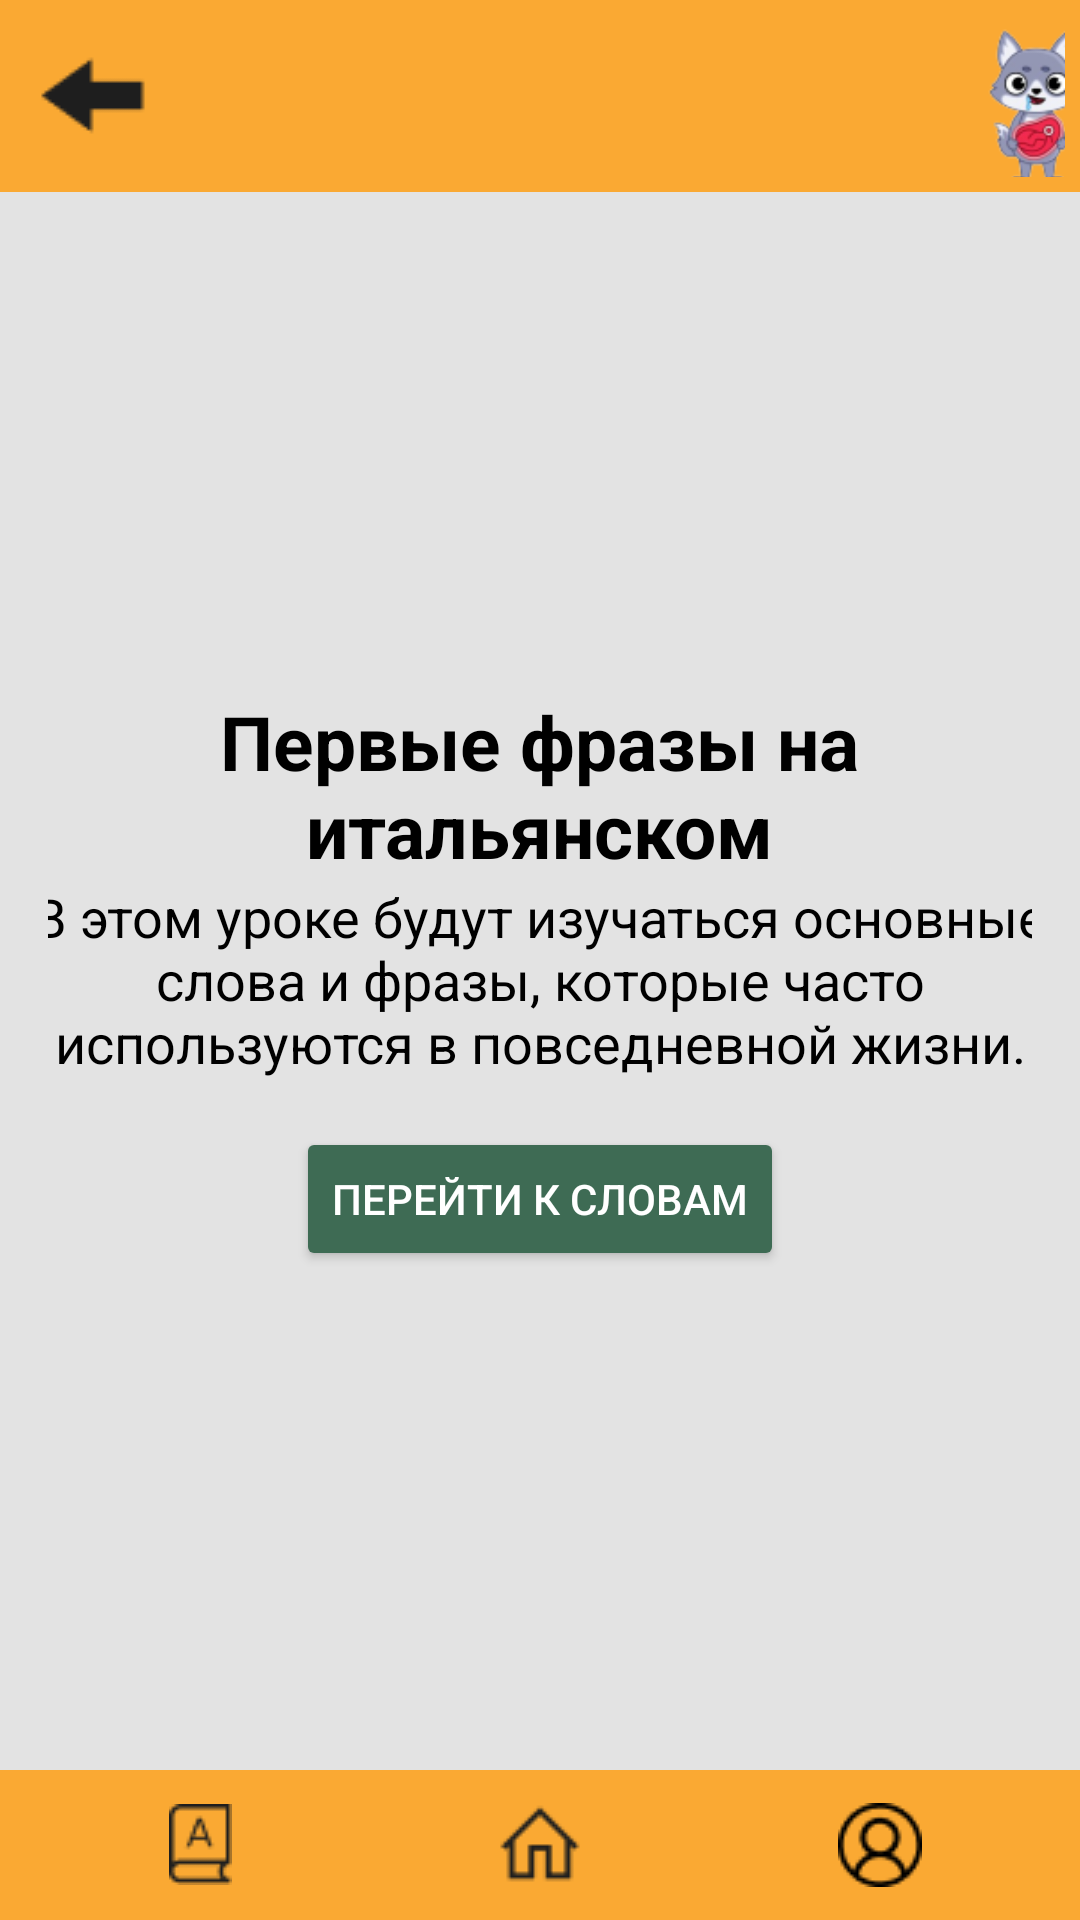

Icon bounding boxes for this 1080x1920 phone screenshot, format (x1, y1, x2, y2):
Аккаунт: (838, 1803, 922, 1887)
Главная: (500, 1807, 580, 1881)
Назад: (41, 58, 145, 133)
Словарь: (169, 1804, 232, 1885)
